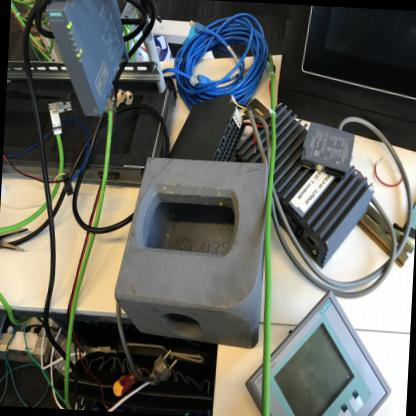CornerCasting: (111, 153, 276, 351)
